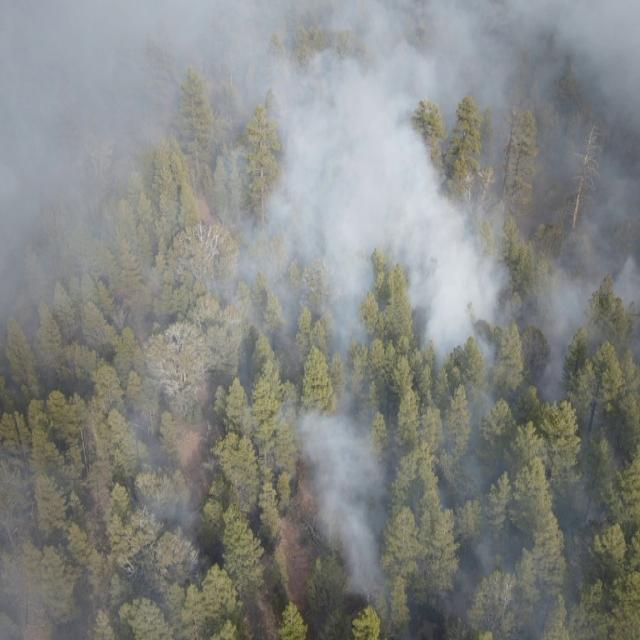smoke: (0, 0, 640, 436), (301, 437, 640, 640), (1, 437, 205, 640)
